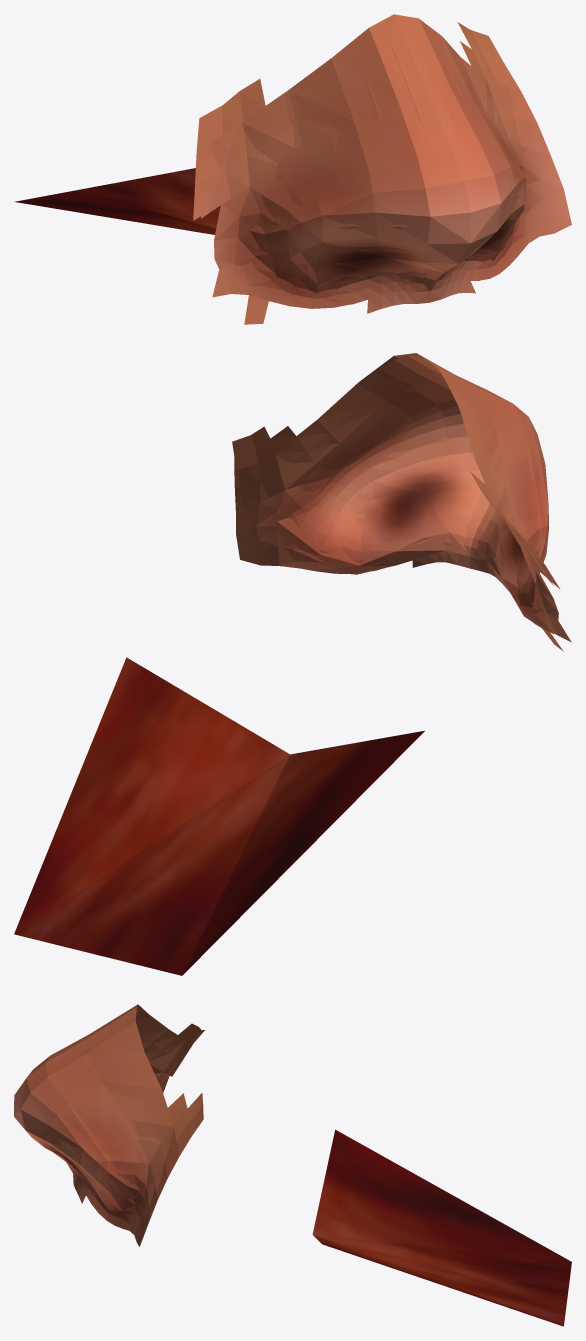
File: myn5.obj
3 views of the same model, one above another, from view 1: azimuth 30°, elevation 25°; view 2: azimuth 150°, elevation 25°; view 3: azimuth 270°, elevation 25° (orthographic). The views are drawn at different scales.
Parts seen in each view (by area): view 1: myn5_myn5_Texture4.001_face1_sk_face1_skin_med.jpg, myn5_myn5_Texture2.001_face1_sk_face1_skin_hi.jpg, myn5_myn5_Texture3.001_face1_sk_face1_skin_lo.jpg, myn5_myn5_Texture5.001_face1_so_face1_sock.jpg; view 2: myn5_myn5_Texture5.001_face1_so_face1_sock.jpg, myn5_myn5_Texture2.001_face1_sk_face1_skin_hi.jpg, myn5_myn5_Texture4.001_face1_sk_face1_skin_med.jpg, myn5_myn5_Texture3.001_face1_sk_face1_skin_lo.jpg; view 3: myn5_myn5_Texture5.001_face1_so_face1_sock.jpg, myn5_myn5_Texture4.001_face1_sk_face1_skin_med.jpg, myn5_myn5_Texture2.001_face1_sk_face1_skin_hi.jpg, myn5_myn5_Texture3.001_face1_sk_face1_skin_lo.jpg.
Boxes of the visible parts, bbox=[...] form: myn5_myn5_Texture4.001_face1_sk_face1_skin_med.jpg: bbox=[201, 14, 538, 304]; myn5_myn5_Texture2.001_face1_sk_face1_skin_hi.jpg: bbox=[193, 22, 571, 324]; myn5_myn5_Texture3.001_face1_sk_face1_skin_lo.jpg: bbox=[300, 101, 526, 304]; myn5_myn5_Texture5.001_face1_so_face1_sock.jpg: bbox=[14, 168, 220, 234]; myn5_myn5_Texture5.001_face1_so_face1_sock.jpg: bbox=[14, 657, 424, 975]; myn5_myn5_Texture2.001_face1_sk_face1_skin_hi.jpg: bbox=[232, 355, 571, 651]; myn5_myn5_Texture4.001_face1_sk_face1_skin_med.jpg: bbox=[239, 353, 553, 633]; myn5_myn5_Texture3.001_face1_sk_face1_skin_lo.jpg: bbox=[279, 376, 549, 591]; myn5_myn5_Texture5.001_face1_so_face1_sock.jpg: bbox=[312, 1129, 571, 1326]; myn5_myn5_Texture4.001_face1_sk_face1_skin_med.jpg: bbox=[14, 1004, 193, 1224]; myn5_myn5_Texture2.001_face1_sk_face1_skin_hi.jpg: bbox=[35, 1007, 204, 1246]; myn5_myn5_Texture3.001_face1_sk_face1_skin_lo.jpg: bbox=[14, 1078, 139, 1218].
Size of the model in its own units: 0.5846 by 0.6347 by 1.14.
